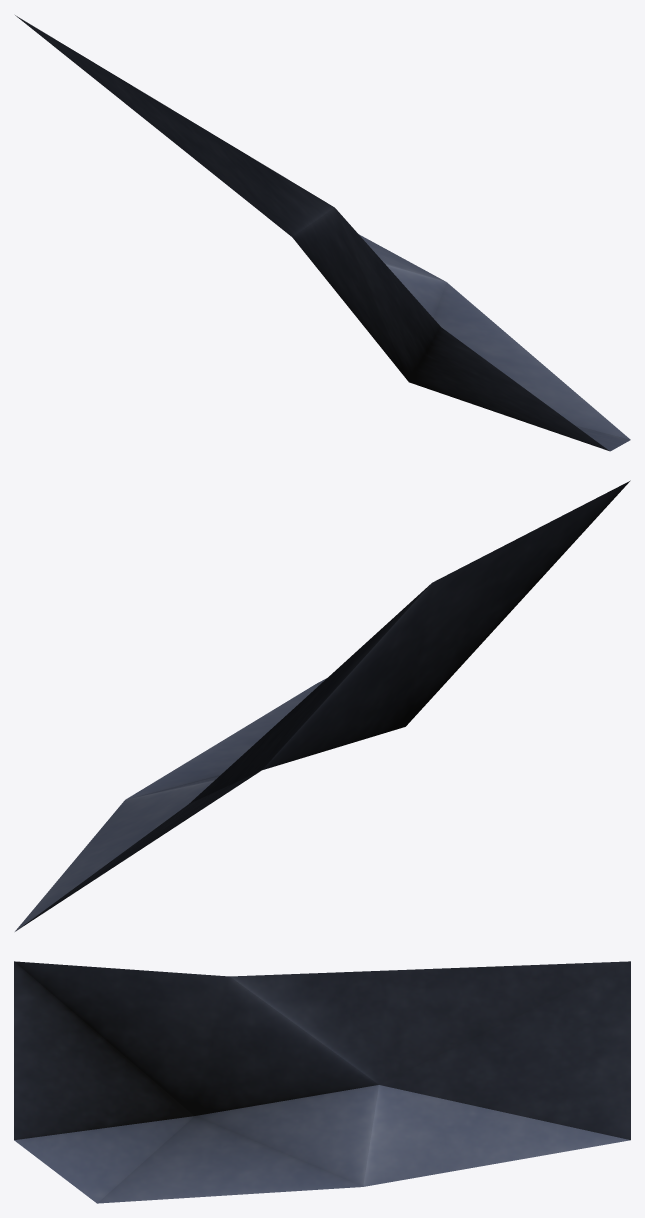
File: SM_Floor_Edge_B_A.fbx
3 views of the same model, one above another, from view 1: azimuth 30°, elevation 25°; view 2: azimuth 150°, elevation 25°; view 3: azimuth 270°, elevation 25° (orthographic). The views are drawn at different scales.
Visible parts, largest first — view 1: pCube185; view 2: pCube185; view 3: pCube185.
Part boxes in pixels (left/top/right/bottom): pCube185: left=15, top=15, right=630, bottom=451; pCube185: left=15, top=480, right=630, bottom=931; pCube185: left=14, top=961, right=630, bottom=1203.
Size of the model in its own units: 0.3338 by 0.2775 by 1.
